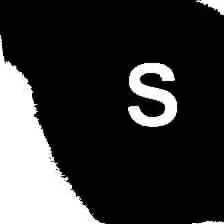LTR_S: (123, 53, 181, 130)
